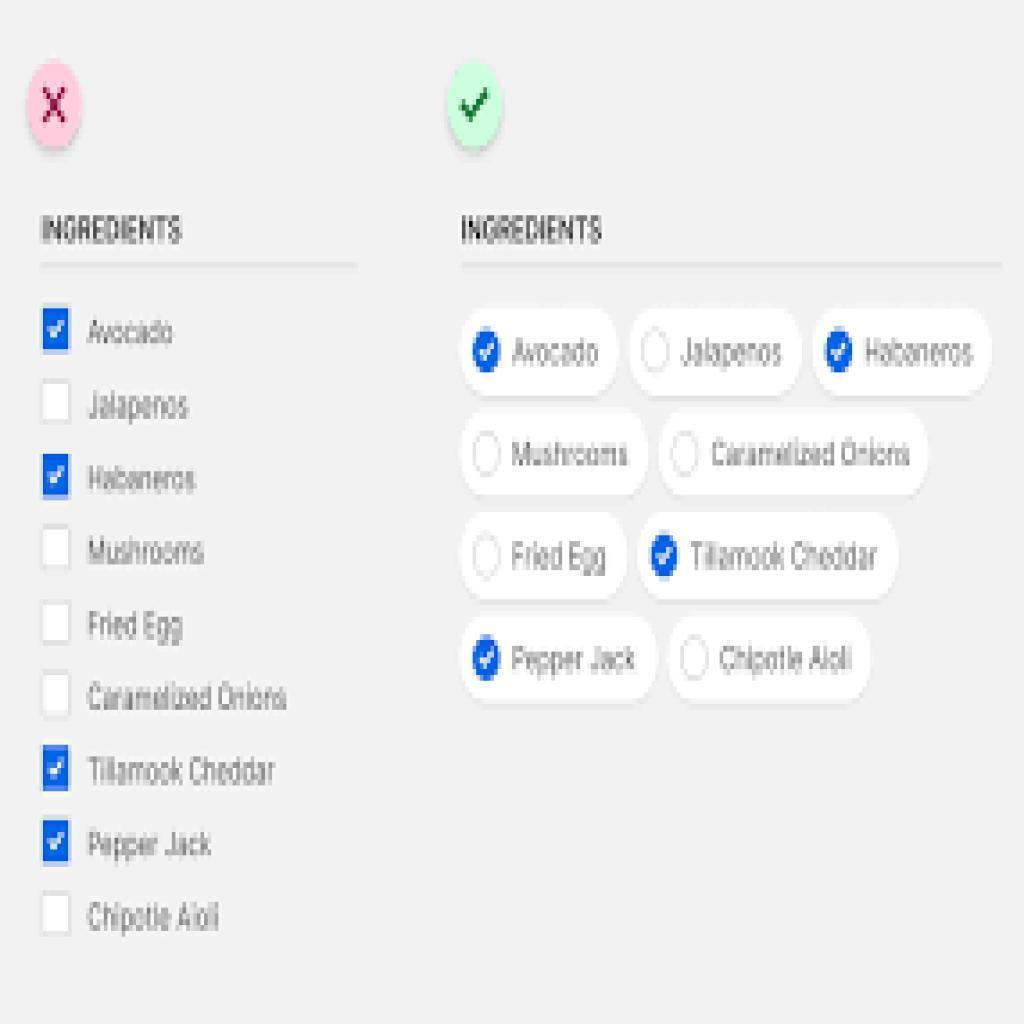checkbox: (34, 737, 78, 799), (36, 448, 80, 506), (34, 665, 76, 724), (36, 595, 80, 651), (35, 888, 78, 945), (36, 301, 76, 362), (35, 521, 76, 580), (35, 812, 75, 872), (35, 376, 73, 429)
radio: (645, 525, 683, 584), (822, 323, 858, 378), (675, 632, 712, 685), (469, 528, 505, 581), (637, 324, 675, 373), (469, 323, 503, 377), (668, 428, 701, 480), (471, 632, 504, 684), (470, 427, 503, 477)
